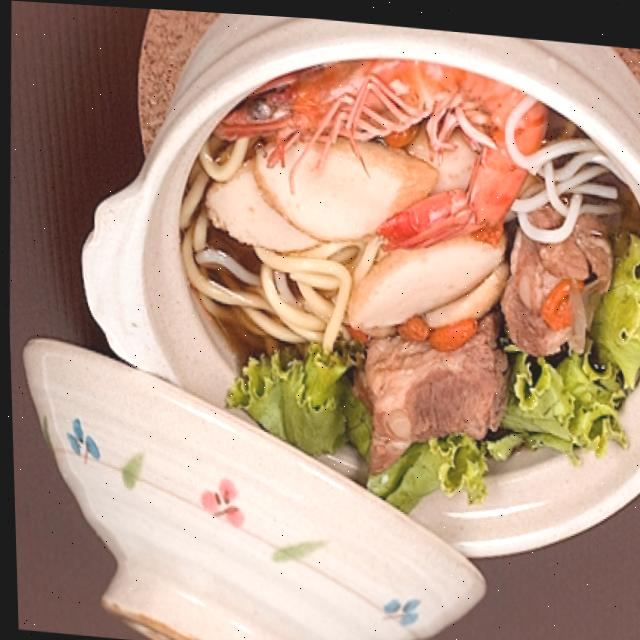汤锅炖物: (51, 2, 640, 640)
